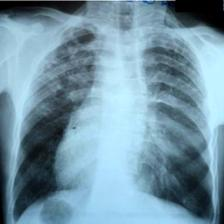tuberculosis: (10, 14, 218, 224)
